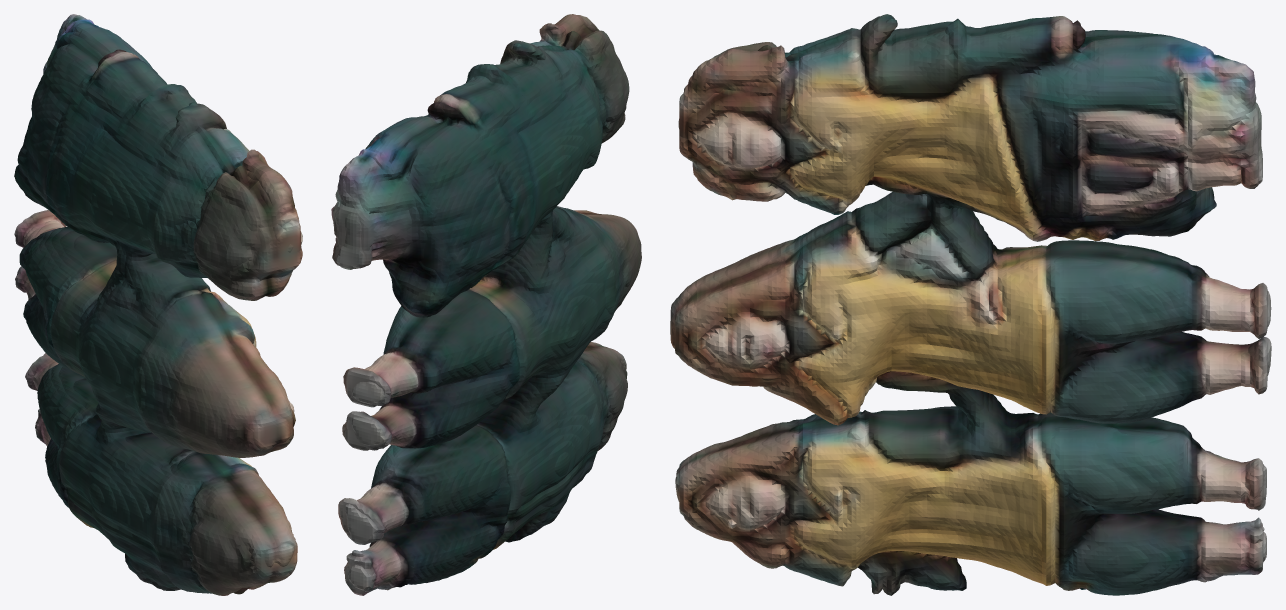
3 views of the same model, side by side, from view 1: azimuth 30°, elevation 25°; view 2: azimuth 150°, elevation 25°; view 3: azimuth 270°, elevation 25° (orthographic). The views are drawn at different scales.
Visible parts, largest first — view 1: world; view 2: world; view 3: world.
Part boxes in pixels (x1=…): world: x1=14, y1=14, x2=302, y2=595; world: x1=331, y1=14, x2=641, y2=595; world: x1=670, y1=14, x2=1271, y2=595.
Size of the model in its own units: 0.293 by 0.9902 by 0.9272.
